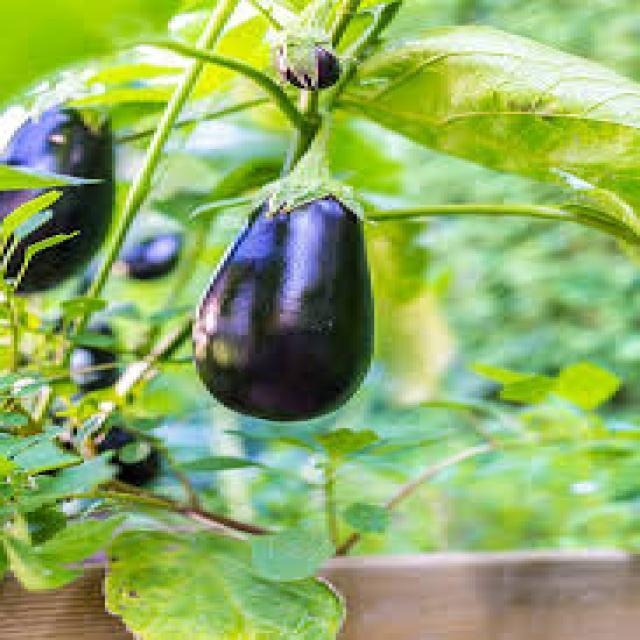Eggplant: (188, 152, 380, 422), (0, 94, 123, 297), (62, 294, 136, 402), (268, 24, 354, 92), (116, 226, 188, 282)
